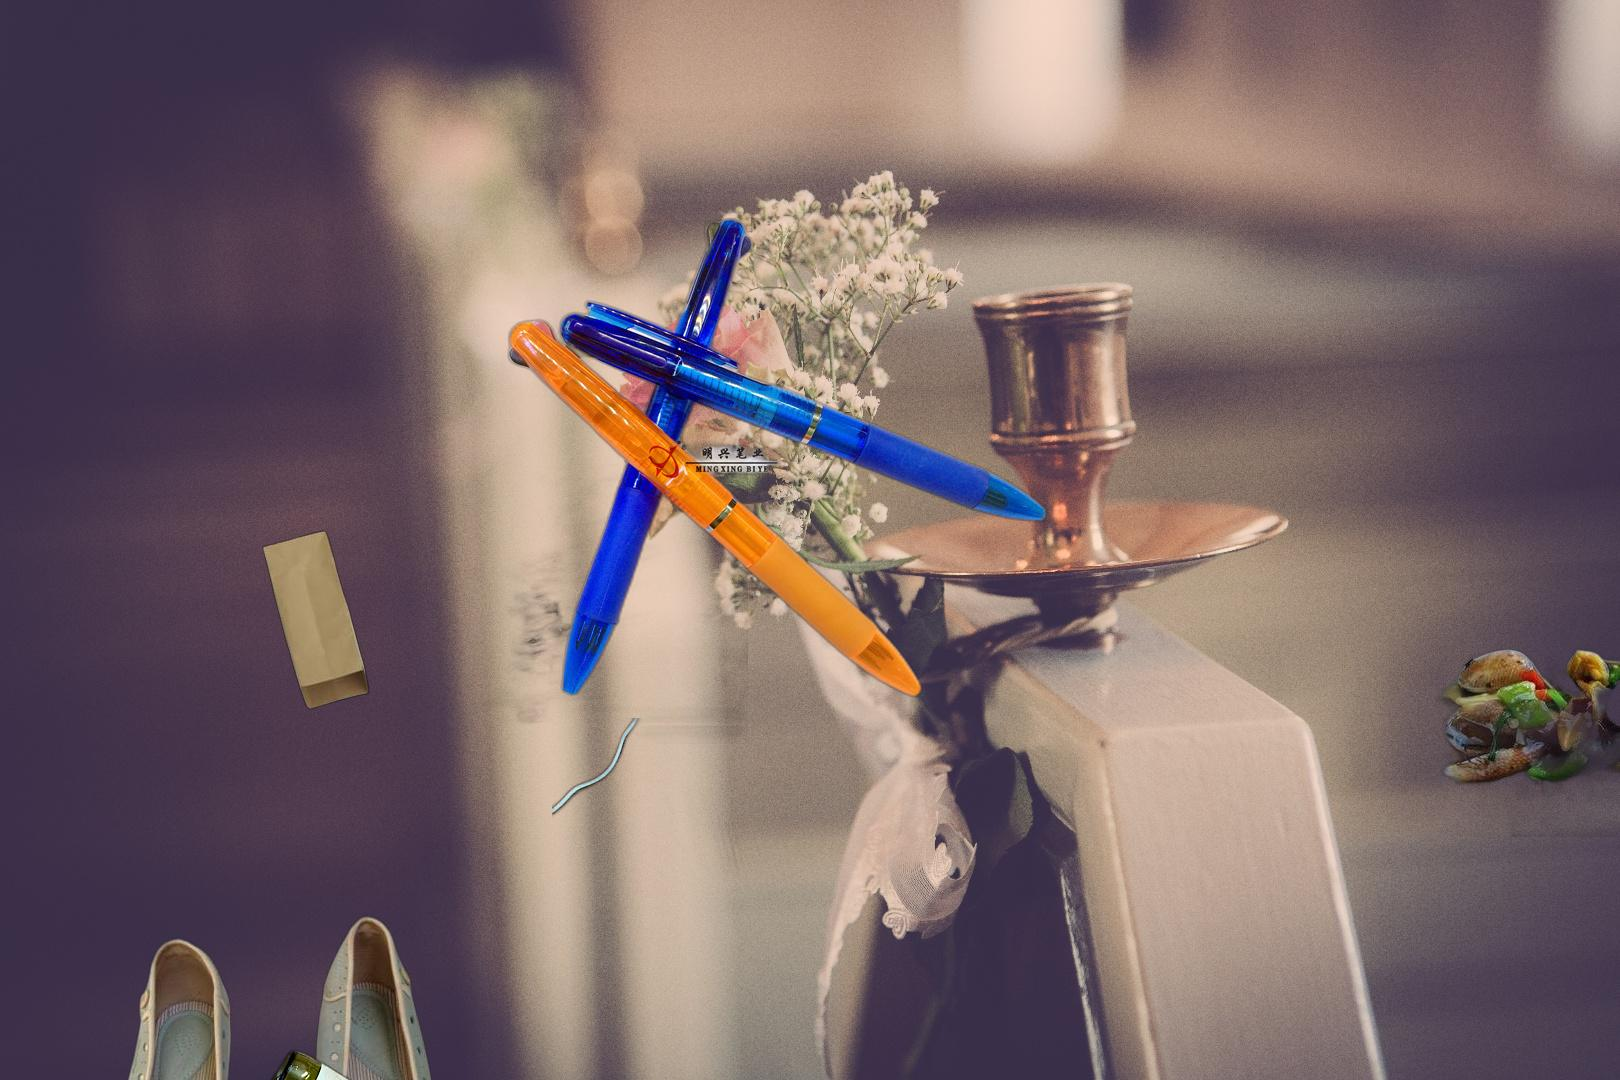biological: (1422, 609, 1620, 837)
glass: (552, 718, 847, 1080), (253, 1044, 516, 1080)
metal-cans: (429, 742, 941, 1080)
paper-bag: (262, 528, 372, 712)
penholder: (501, 213, 1053, 702)
shoes: (90, 911, 474, 1080)
trashbox-cardboard: (358, 464, 749, 744)
